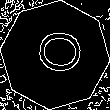O_W: (27, 31, 83, 79)
